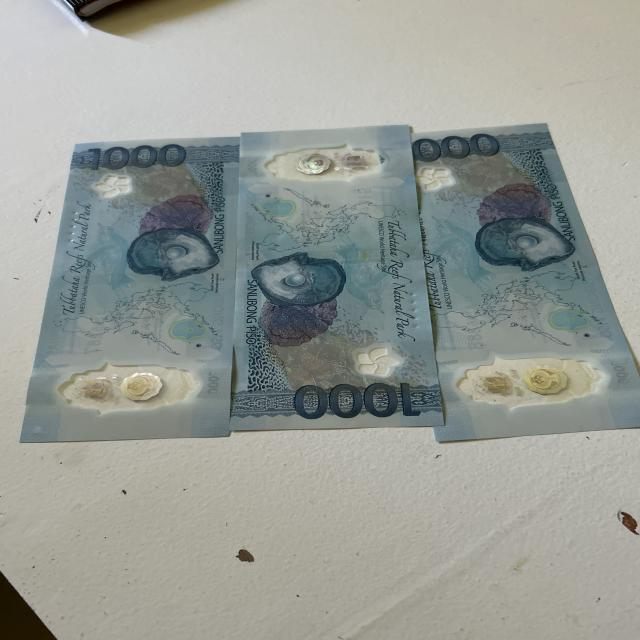clear_window: (455, 353, 618, 407), (47, 366, 213, 417), (254, 145, 388, 187)
sampaguita: (338, 345, 408, 377), (404, 163, 457, 193), (84, 171, 138, 200)
